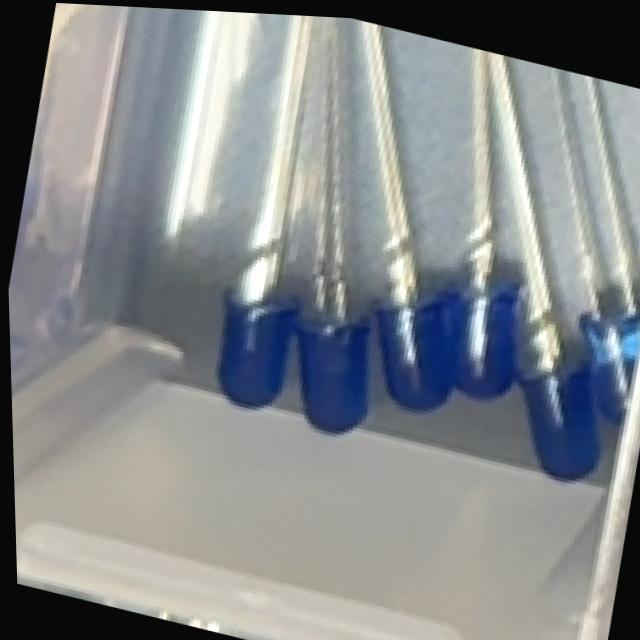BLUE_LED: (436, 55, 640, 496), (305, 21, 519, 427), (260, 13, 438, 447), (195, 10, 356, 424), (485, 63, 640, 425), (427, 50, 570, 405)
